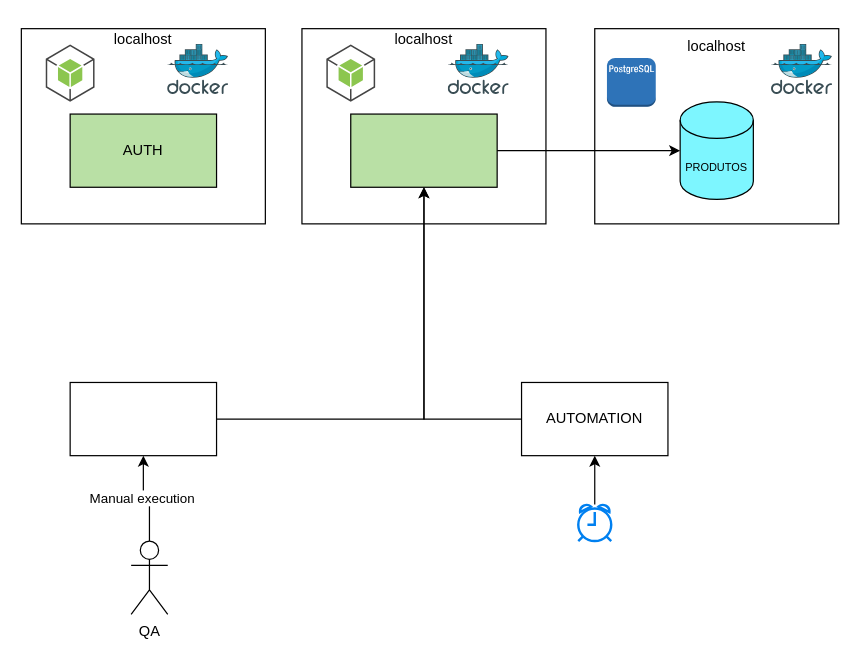
This 860x660 diagram has some shape labels left out. The shapes that lost their labels are listed below. From the top down, each one's centre as x and y in pixels, then its label:
the point at 423,150: API PRODUTOS
the point at 143,418: HTTP CLIENT
